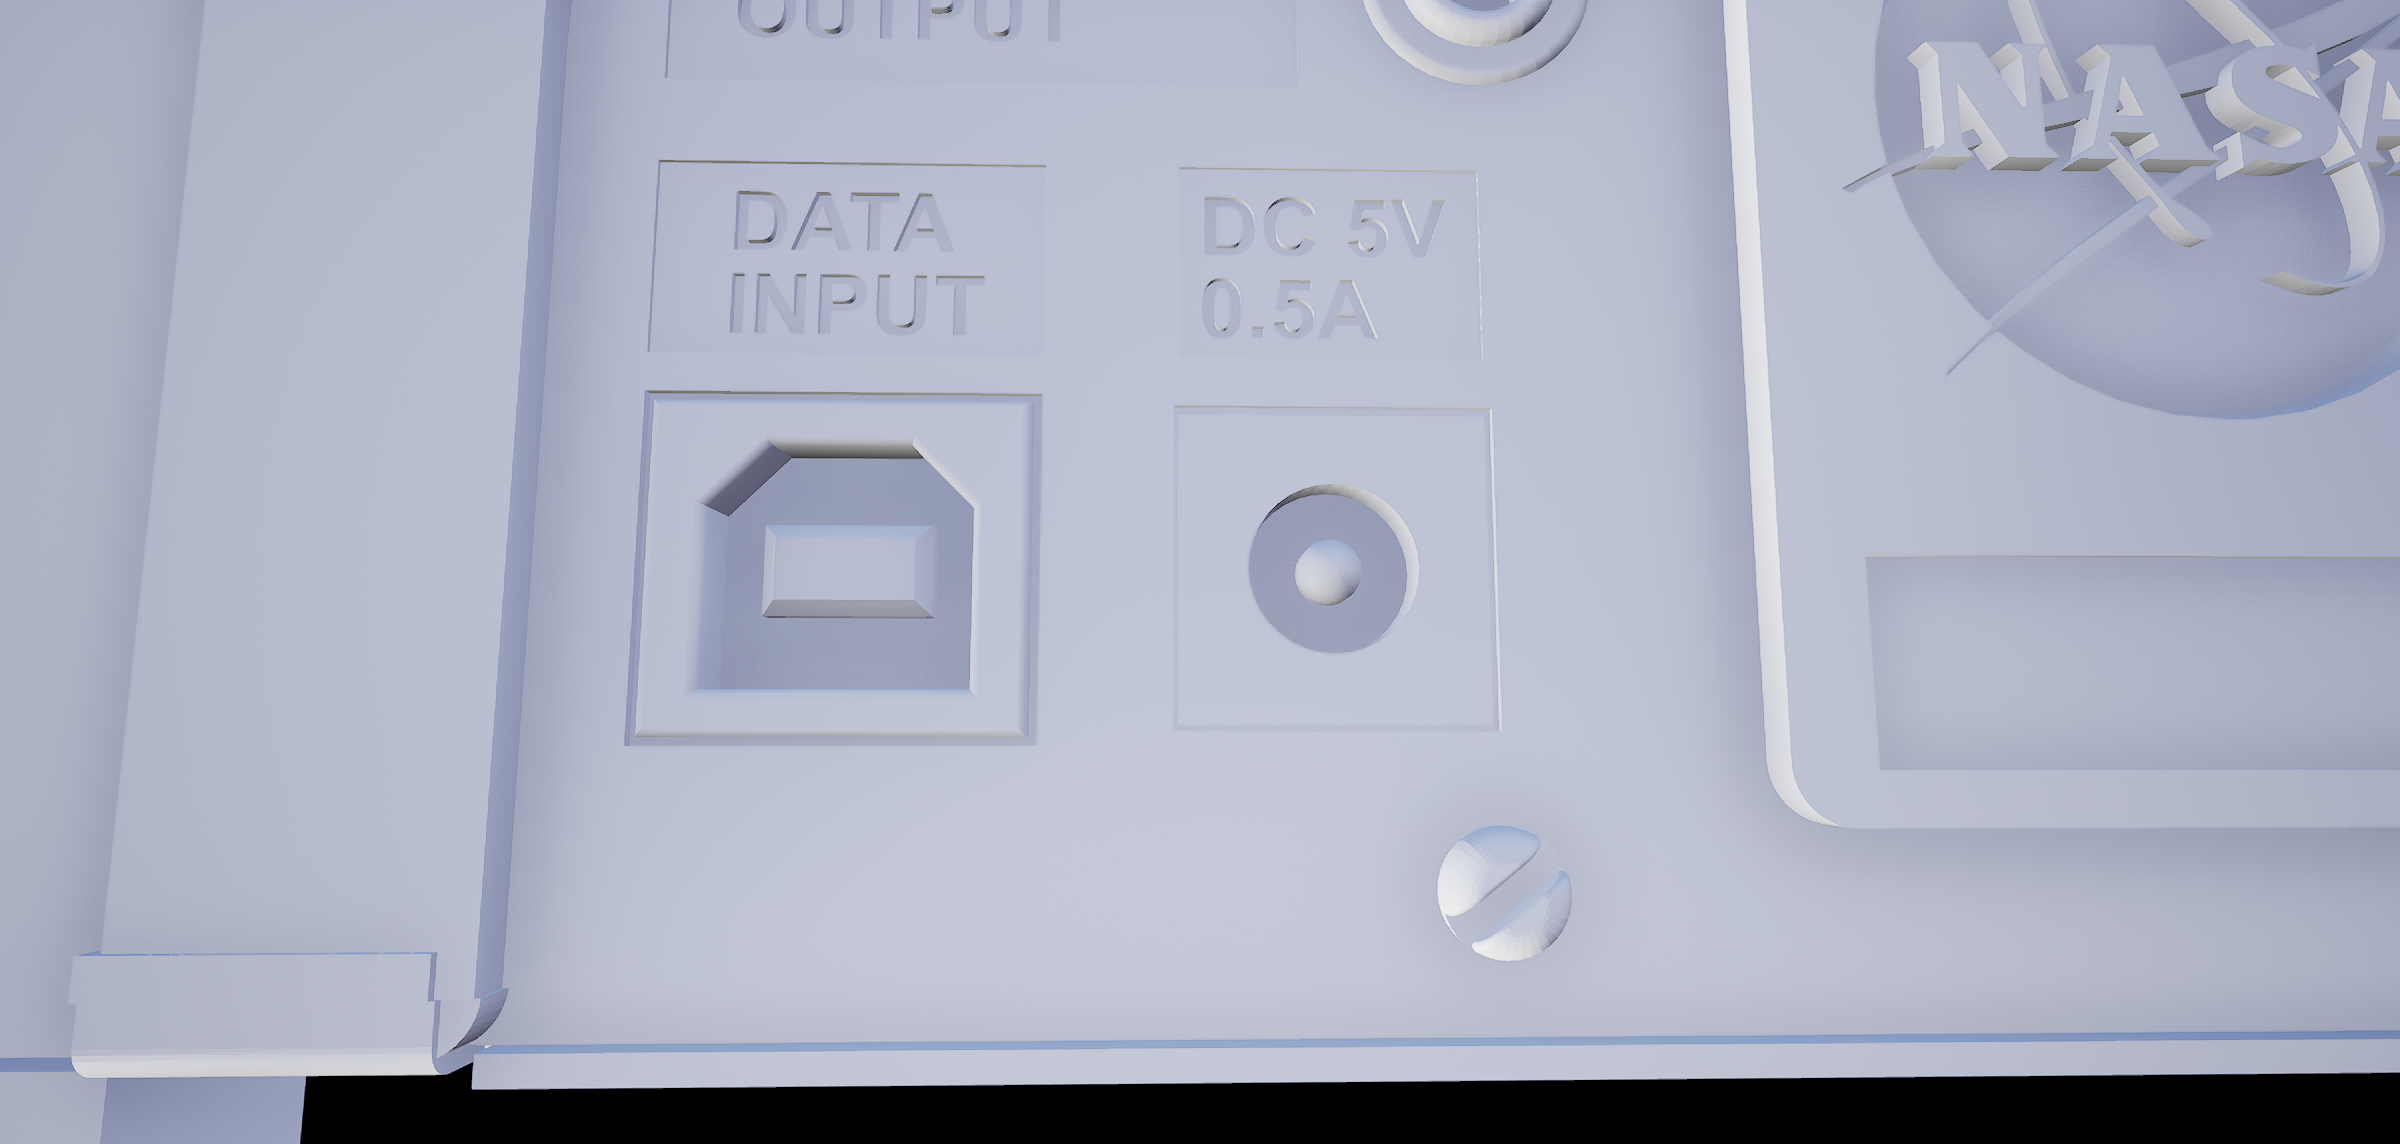aux: (1345, 2, 1603, 106)
dc: (1237, 472, 1440, 675)
usb: (686, 424, 987, 718)
